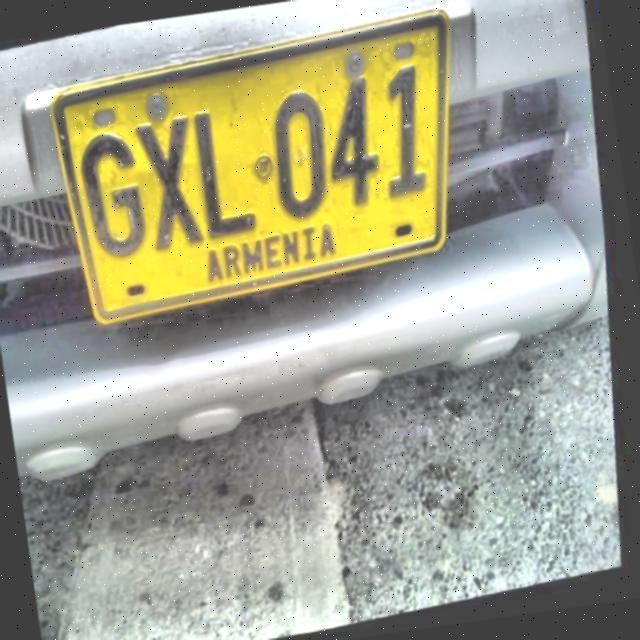0: (266, 75, 334, 226)
1: (376, 57, 434, 208)
4: (323, 70, 385, 214)
G: (73, 122, 153, 264)
L: (191, 107, 264, 244)
X: (133, 112, 208, 254)
